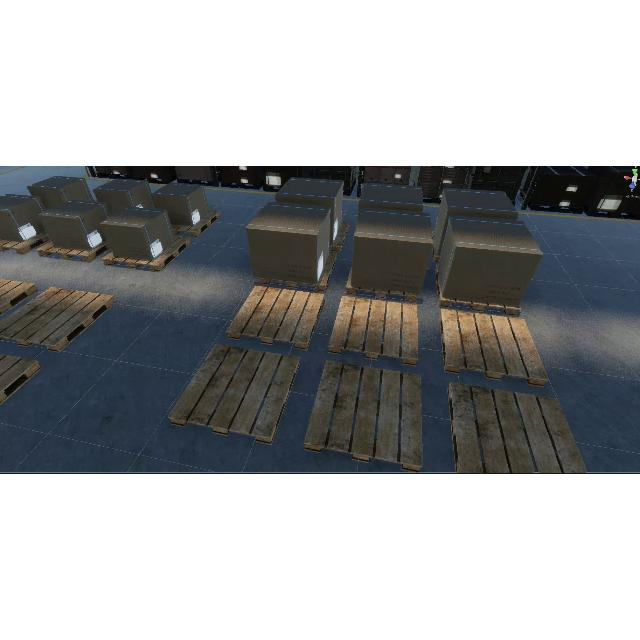wooden_pallet: (439, 309, 549, 387), (225, 285, 325, 351), (327, 295, 418, 367), (102, 236, 191, 273), (259, 252, 337, 293), (172, 210, 221, 238)
